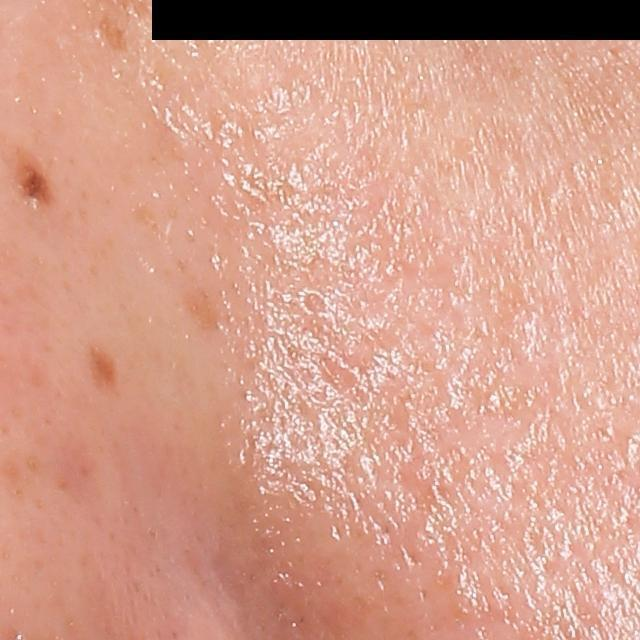melasma: (183, 282, 223, 332)
